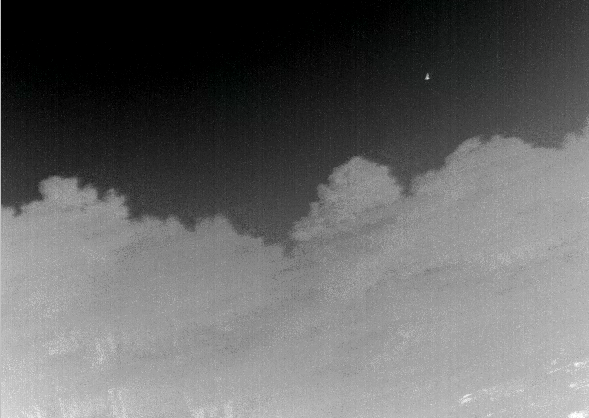dim target: (423, 71, 431, 81)
